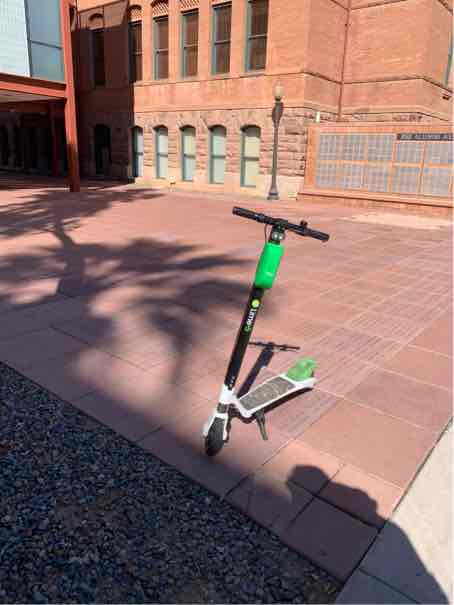scooter: (194, 197, 332, 473)
